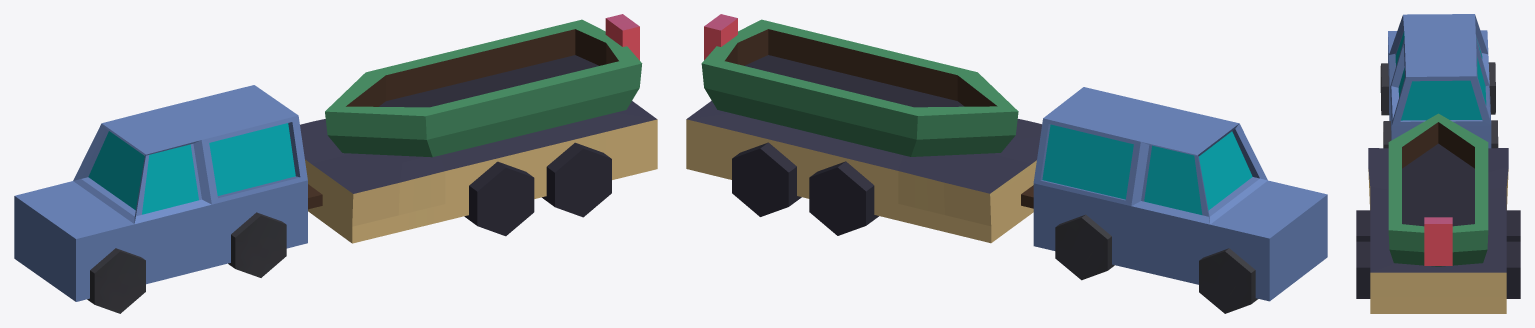
Rendered from Boat_Trailer.fbx.
3 views of the same model, side by side, from view 1: azimuth 30°, elevation 25°; view 2: azimuth 150°, elevation 25°; view 3: azimuth 270°, elevation 25° (orthographic). The views are drawn at different scales.
Parts seen in each view (by area): view 1: Cube.034; view 2: Cube.034; view 3: Cube.034.
Part boxes in pixels (left/top/right/bottom): Cube.034: left=14, top=14, right=657, bottom=313; Cube.034: left=686, top=14, right=1327, bottom=313; Cube.034: left=1356, top=14, right=1520, bottom=313.
Size of the model in its own units: 1264 by 293 by 368.
